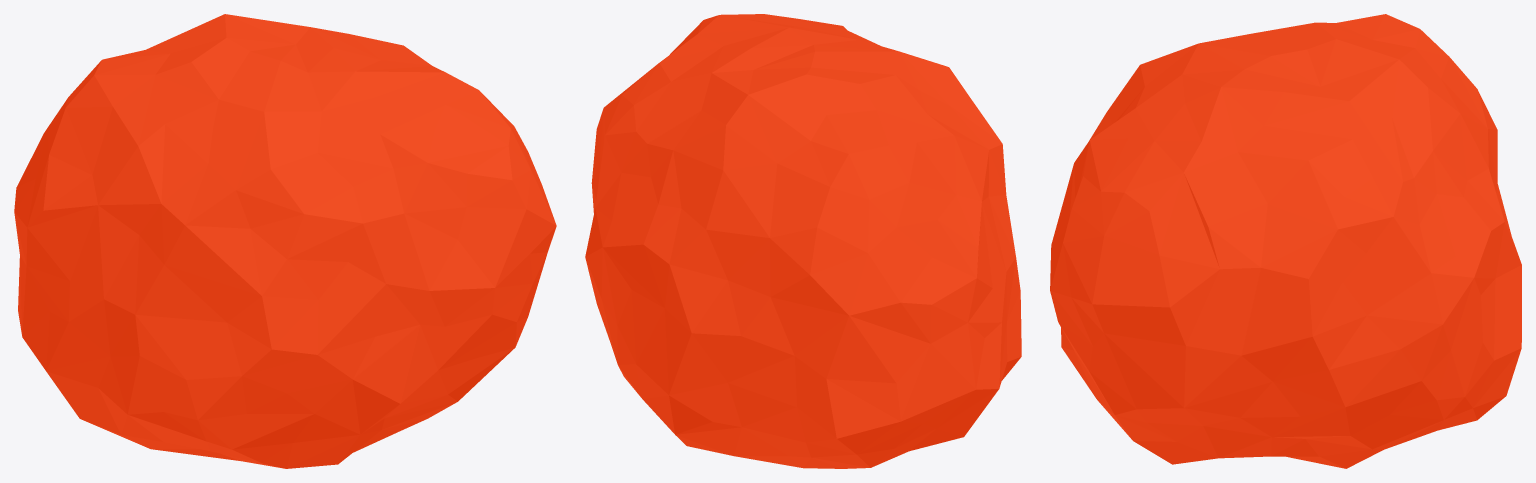
File: special_meteor.glb
3 views of the same model, side by side, from view 1: azimuth 30°, elevation 25°; view 2: azimuth 150°, elevation 25°; view 3: azimuth 270°, elevation 25° (orthographic). The views are drawn at different scales.
Parts seen in each view (by area): view 1: vulcanic_rock; view 2: vulcanic_rock; view 3: vulcanic_rock.
Boxes of the visible parts, box(x1,y1,x2,y2) form: vulcanic_rock: box(14, 14, 556, 468); vulcanic_rock: box(585, 14, 1021, 468); vulcanic_rock: box(1050, 14, 1521, 468).
Size of the model in its own units: 1.76 by 1.54 by 1.65.
